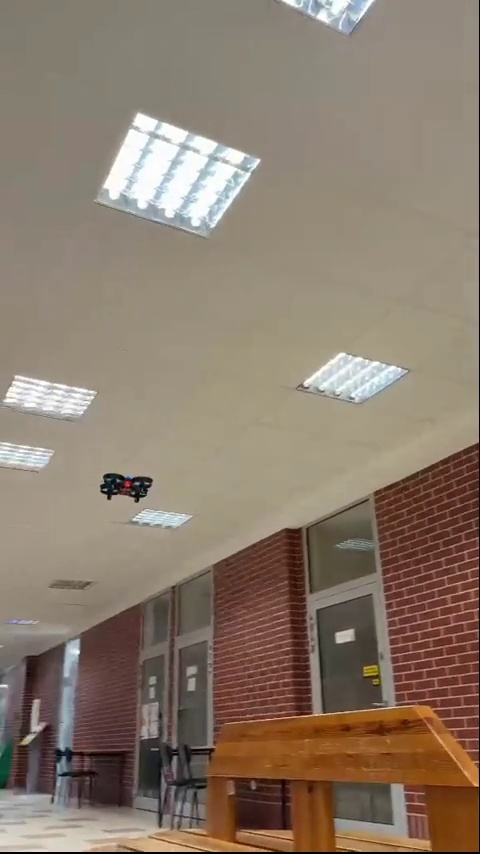drone: (97, 474, 157, 504)
